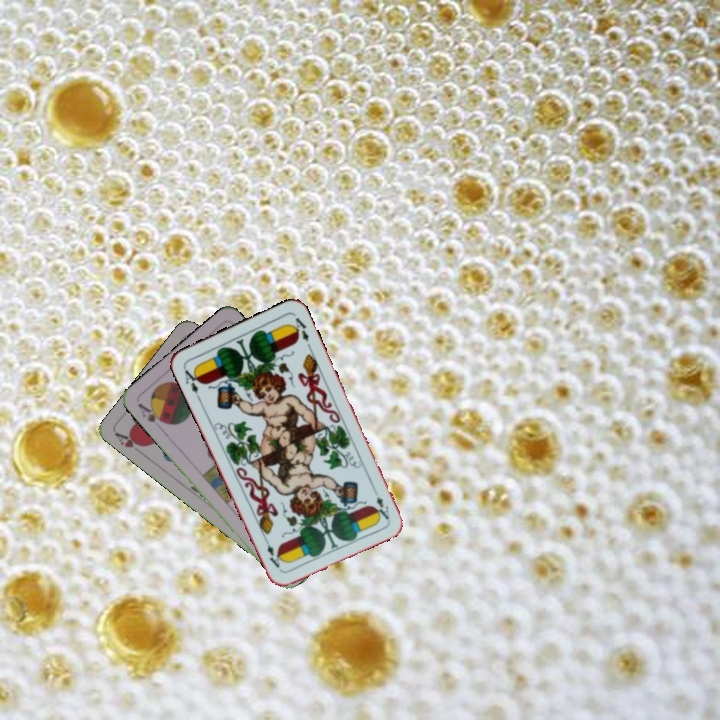EA: (181, 364, 204, 402), (369, 484, 392, 522)
HA: (111, 428, 148, 450)
SA: (134, 399, 169, 427)
